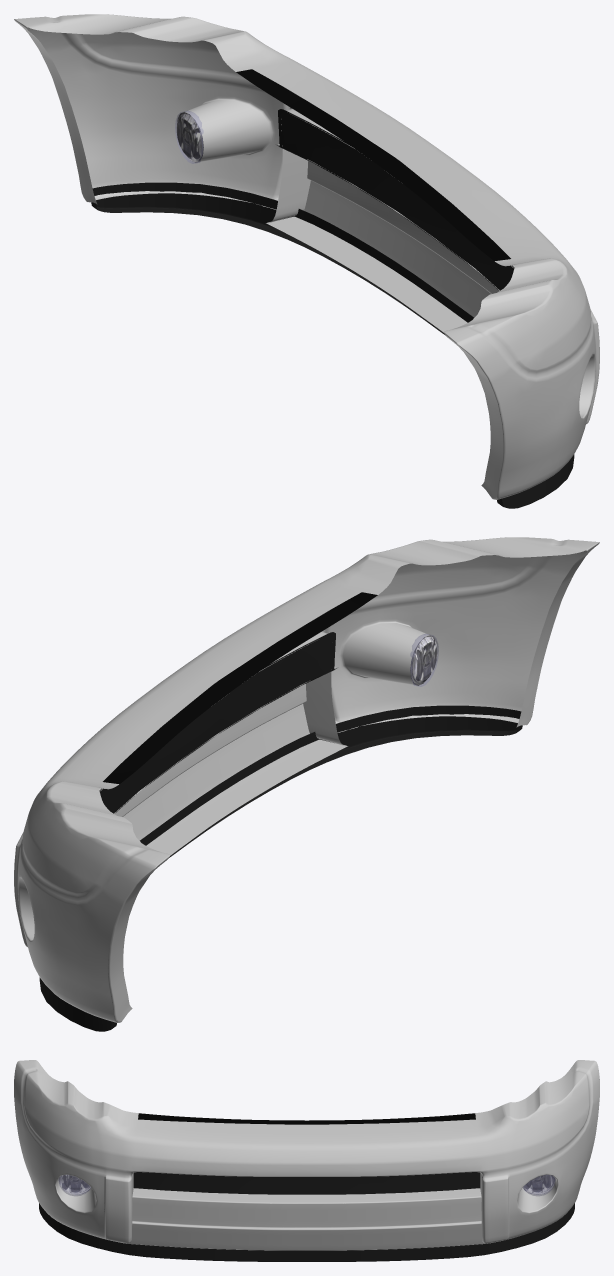
The picture shows the model from 3 angles, top to bottom: view 1: azimuth 30°, elevation 25°; view 2: azimuth 150°, elevation 25°; view 3: azimuth 270°, elevation 25°; orthographic projection. The views are drawn at different scales.
Visible parts, largest first — view 1: N826_021G_C_N826_021G_C_4_DaS, N826_021G_C_N826_021G_C_6_D, N826_021G_C_N826_021G_C_5_D, N826_021G_C_N826_021G_C_7_D, N826_021G_C_N826_021G_C_1_N; view 2: N826_021G_C_N826_021G_C_4_DaS, N826_021G_C_N826_021G_C_6_D, N826_021G_C_N826_021G_C_5_D, N826_021G_C_N826_021G_C_7_D, N826_021G_C_N826_021G_C_2_N; view 3: N826_021G_C_N826_021G_C_4_DaS, N826_021G_C_N826_021G_C_6_D, N826_021G_C_N826_021G_C_5_D, N826_021G_C_N826_021G_C_7_D, N826_021G_C_3_DTaSI_N826_021G_C, N826_021G_C_N826_021G_C_8_DTaSI, N826_021G_C_N826_021G_C_1_N, N826_021G_C_N826_021G_C_2_N.
Part boxes in pixels (x1=…): N826_021G_C_N826_021G_C_4_DaS: x1=14, y1=14, x2=599, y2=499; N826_021G_C_N826_021G_C_6_D: x1=91, y1=182, x2=574, y2=508; N826_021G_C_N826_021G_C_5_D: x1=277, y1=109, x2=514, y2=290; N826_021G_C_N826_021G_C_7_D: x1=236, y1=69, x2=510, y2=261; N826_021G_C_N826_021G_C_1_N: x1=176, y1=112, x2=203, y2=162; N826_021G_C_N826_021G_C_4_DaS: x1=14, y1=537, x2=599, y2=1022; N826_021G_C_N826_021G_C_6_D: x1=39, y1=705, x2=522, y2=1031; N826_021G_C_N826_021G_C_5_D: x1=99, y1=632, x2=336, y2=813; N826_021G_C_N826_021G_C_7_D: x1=103, y1=592, x2=377, y2=784; N826_021G_C_N826_021G_C_2_N: x1=410, y1=635, x2=437, y2=685; N826_021G_C_N826_021G_C_4_DaS: x1=14, y1=1060, x2=599, y2=1250; N826_021G_C_N826_021G_C_6_D: x1=39, y1=1203, x2=574, y2=1261; N826_021G_C_N826_021G_C_5_D: x1=133, y1=1172, x2=480, y2=1194; N826_021G_C_N826_021G_C_7_D: x1=138, y1=1113, x2=475, y2=1124; N826_021G_C_3_DTaSI_N826_021G_C: x1=523, y1=1175, x2=555, y2=1195; N826_021G_C_N826_021G_C_8_DTaSI: x1=58, y1=1175, x2=90, y2=1195; N826_021G_C_N826_021G_C_1_N: x1=523, y1=1174, x2=555, y2=1194; N826_021G_C_N826_021G_C_2_N: x1=58, y1=1174, x2=90, y2=1194.
Bounding box in the file's own units: 54.91 × 46.03 × 183.
